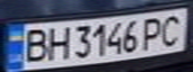1: (90, 20, 109, 56)
3: (72, 21, 93, 60)
4: (106, 19, 127, 55)
6: (121, 17, 145, 53)
B: (18, 26, 51, 64)
C: (157, 11, 190, 47)
H: (42, 24, 72, 61)
P: (139, 15, 169, 51)
